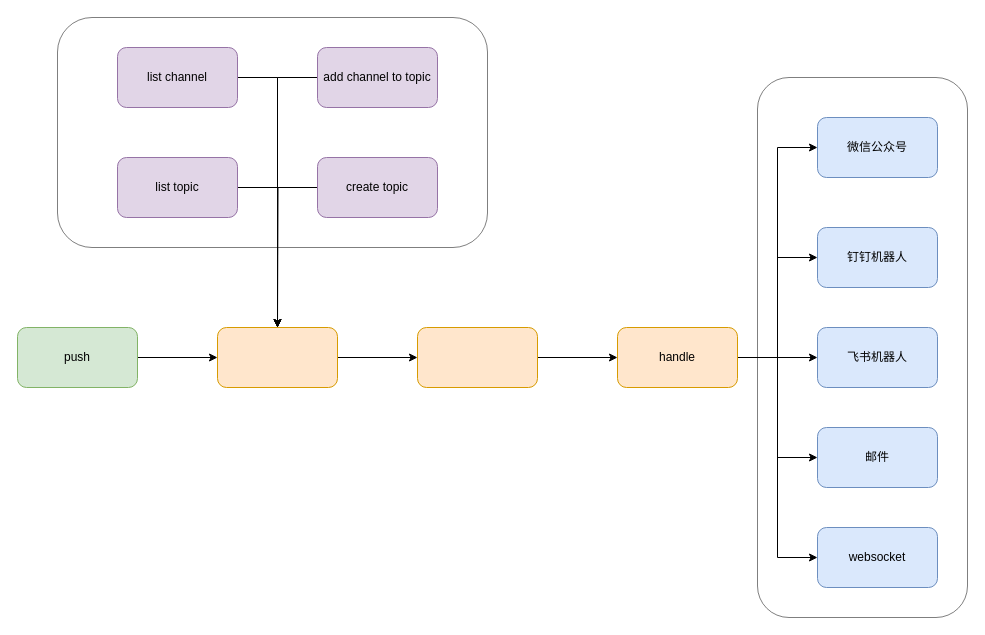
The diagram is 985 pixels wide and 635 high, and some of its shapes have lost their labels. The shapes that lost their labels are listed below. From the top down, each one's centre as x and y in pixels, then its label:
At point 277,357: "controler".
At point 477,357: "queue".
